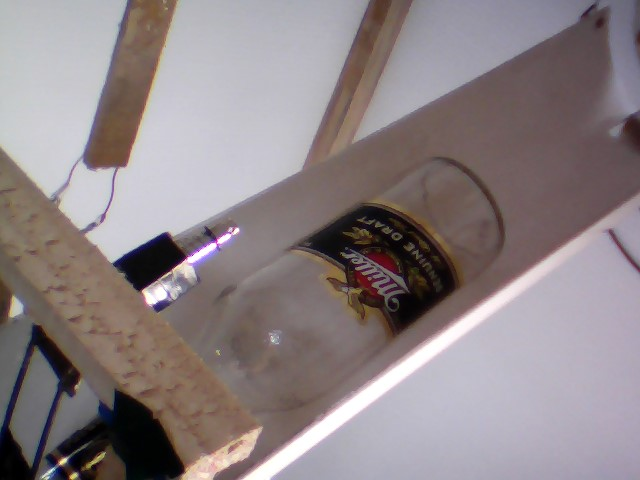vidrio: (182, 149, 524, 420)
